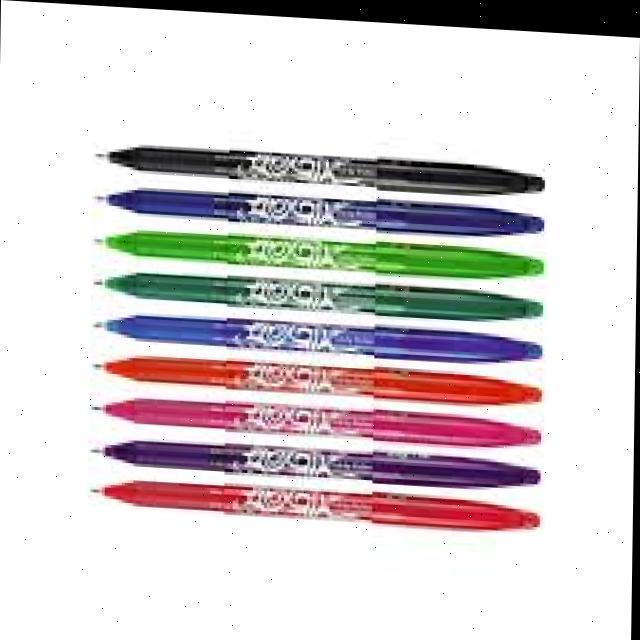Pen - Non Recyclable: (89, 133, 554, 532)
